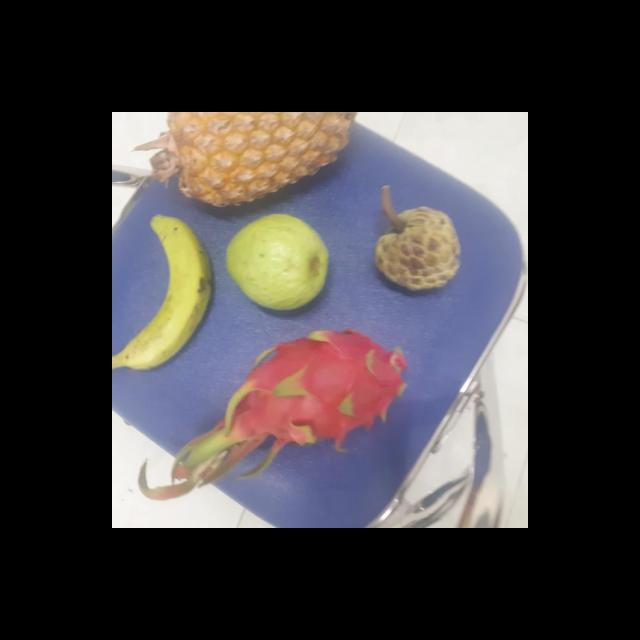Sakya fruit: (376, 205, 464, 292)
banana: (114, 215, 216, 374)
guava: (226, 216, 336, 310)
pineapple: (169, 112, 357, 202)
pitaya: (228, 326, 416, 454)
